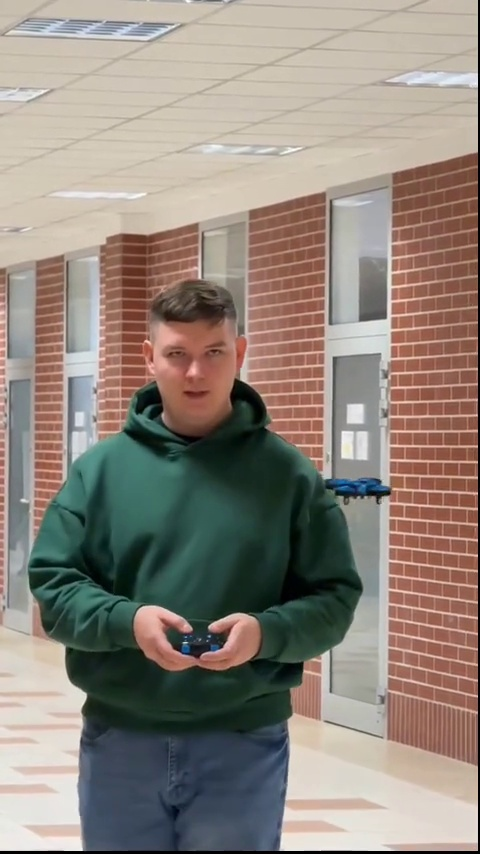drone: (325, 473, 392, 507)
no vest: (31, 281, 358, 834)
